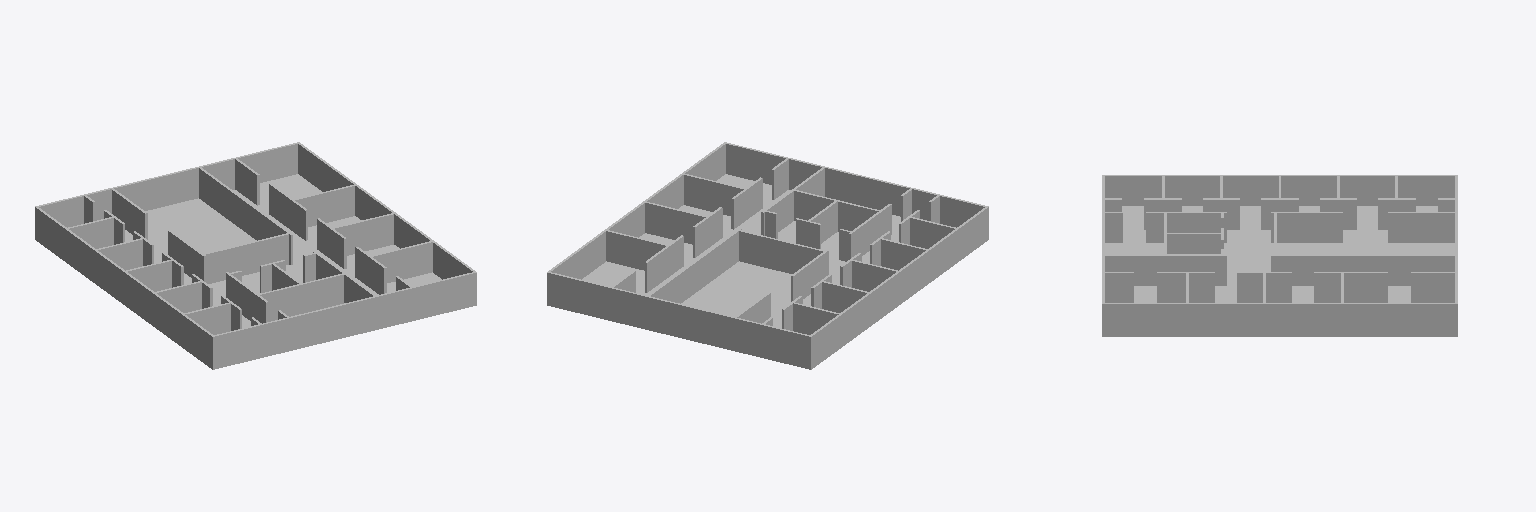
The model's file is Keba_1_Floor.obj.
3 views of the same model, side by side, from view 1: azimuth 30°, elevation 25°; view 2: azimuth 150°, elevation 25°; view 3: azimuth 270°, elevation 25° (orthographic).
Visible parts, largest first — view 1: Cube; view 2: Cube; view 3: Cube.
Boxes of the visible parts, x1=… form: Cube: x1=35, y1=142, x2=476, y2=369; Cube: x1=547, y1=142, x2=988, y2=369; Cube: x1=1102, y1=175, x2=1457, y2=336.
Size of the model in its own units: 30 by 3.57 by 35.